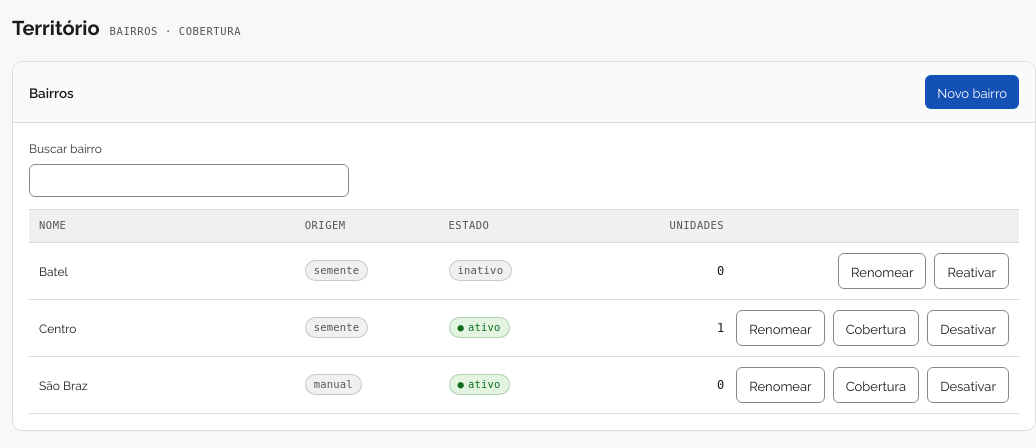
Test: Territory › busca sem diferenciar maiúsculas e acentos
Expected: the text "Centro" is shown, x1=39 y1=319 x2=76 y2=336
Type "SAO" into the field labelled "Buscar bairro" at (189, 181), box x1=29 y1=164 x2=349 y2=197
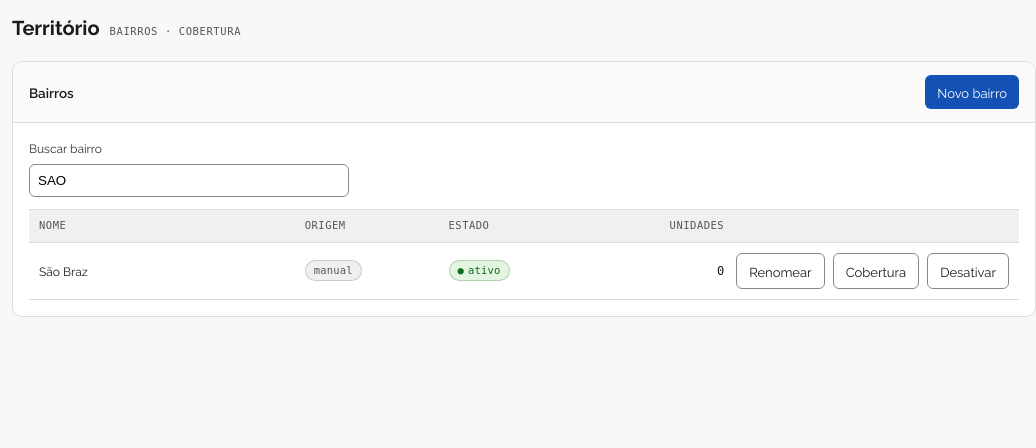
Expected: the text "São Braz" is shown, x1=39 y1=262 x2=88 y2=279
Expected: the text "Centro" is gone
